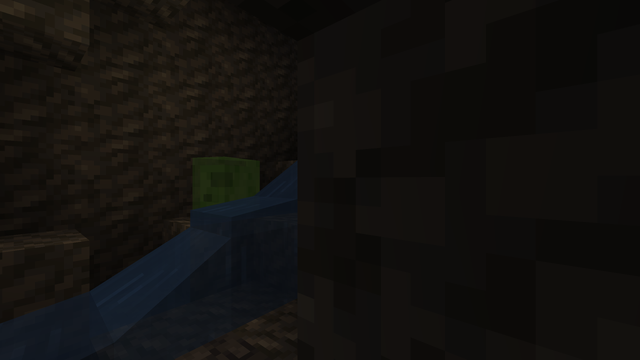slimes: (193, 153, 261, 218)
